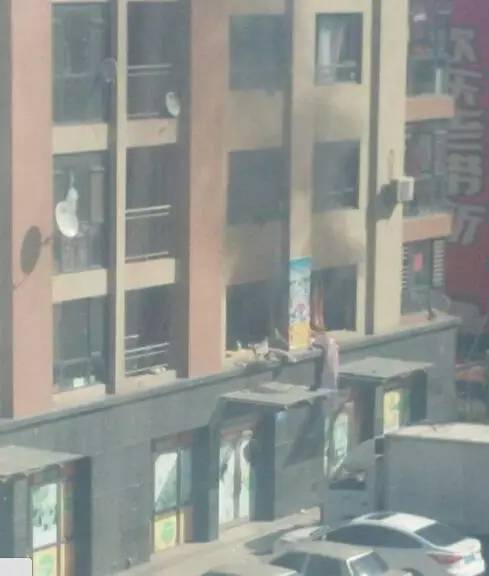smoke: (192, 93, 379, 291)
